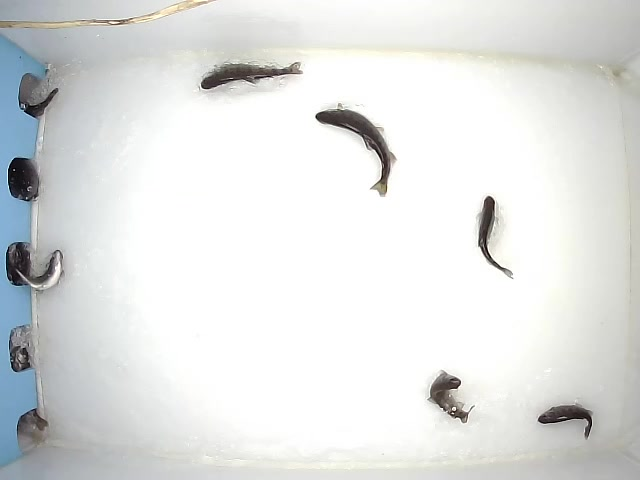fish: (313, 102, 398, 199), (472, 194, 514, 281), (198, 59, 304, 91), (425, 368, 476, 425), (9, 247, 66, 292), (536, 400, 593, 441)
